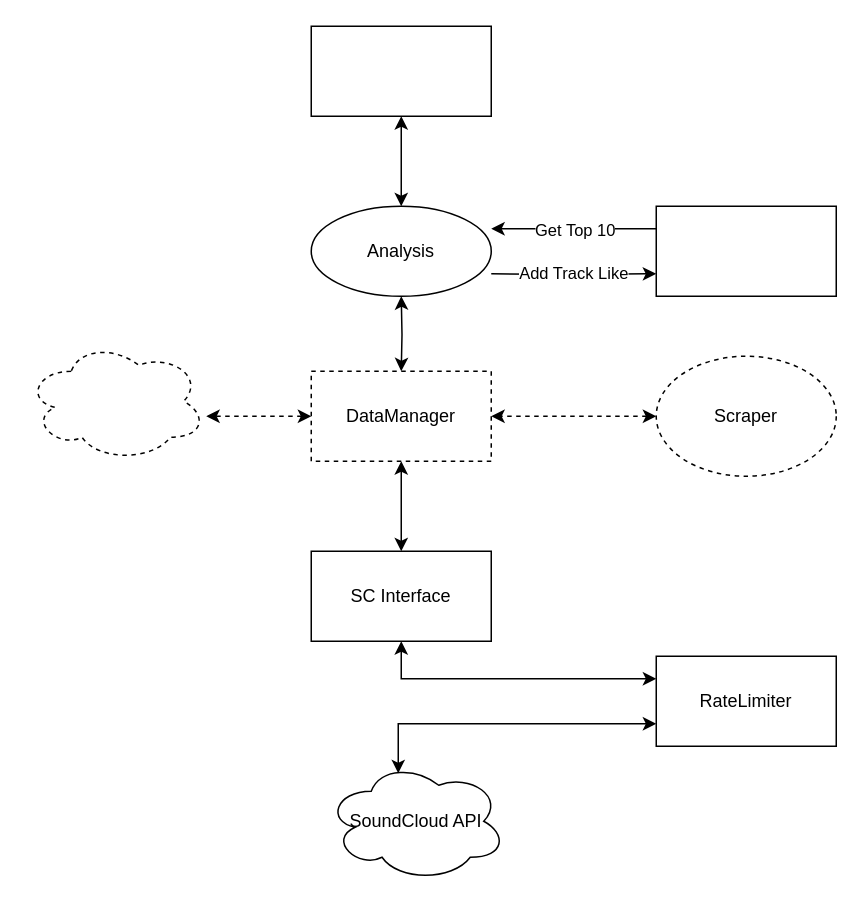
The diagram is 863 pixels wide and 908 high, and some of its shapes have lost their labels. The centre of each missing label's shape, as x and y in pixels:
LikeAggregator: (745,250)
Postgres: (115,400)
WsClient: (400,70)
